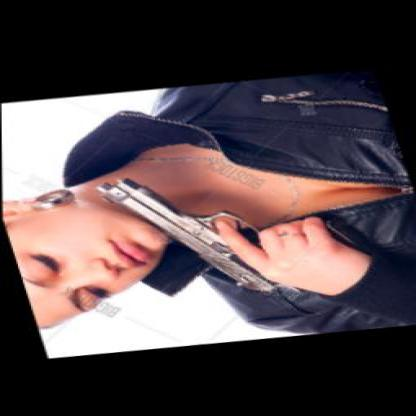pistol: (87, 158, 285, 306)
